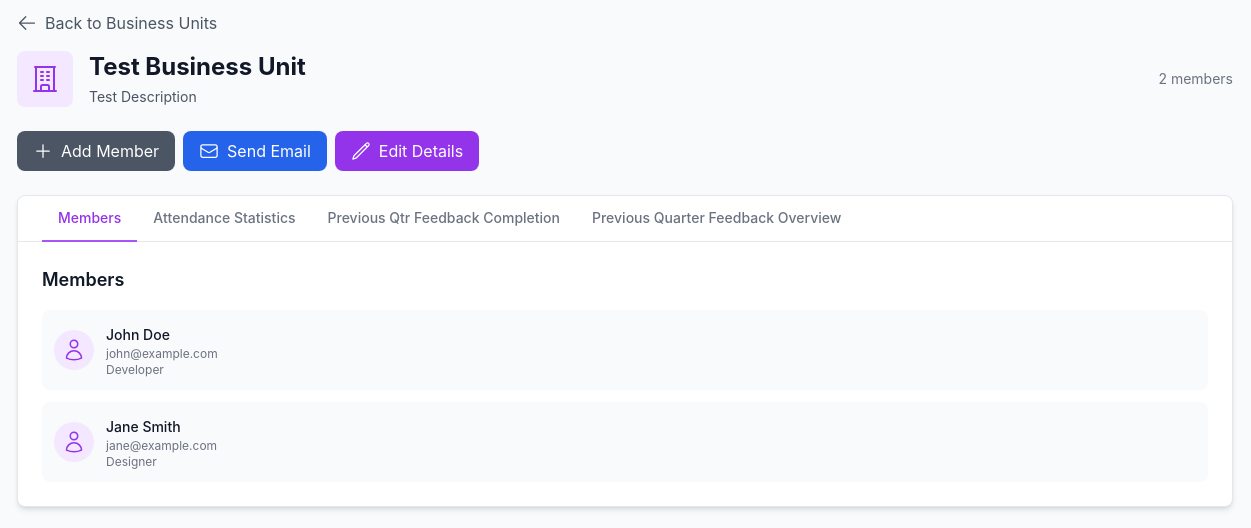
BusinessUnitDetail › should display feedback overview tab
Step 1. Click the button "Previous Quarter Feedback Overview" → click(717, 219), box [576,196,857,242]
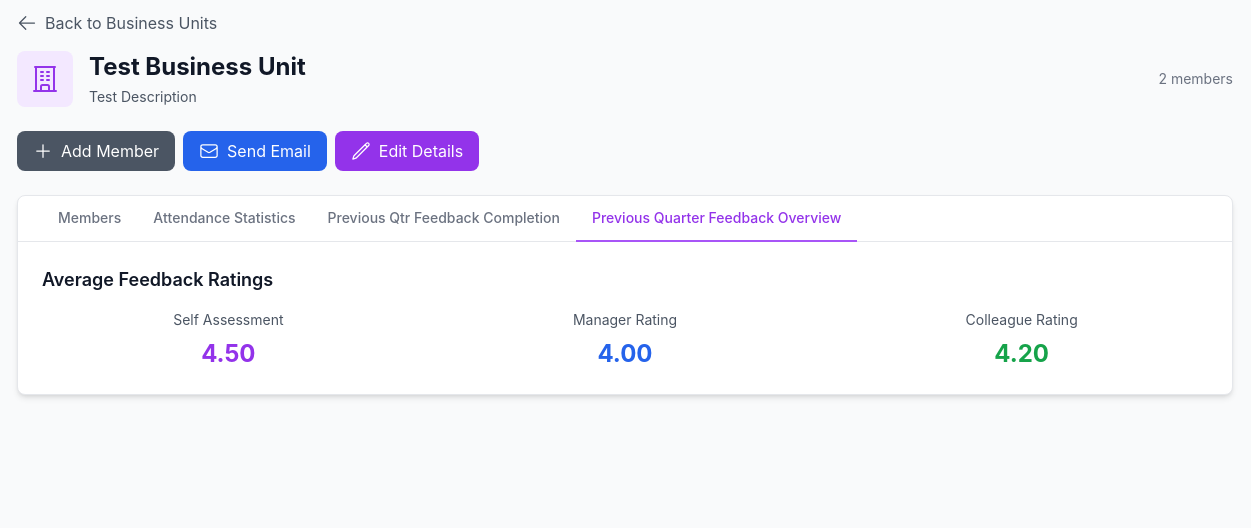
Expected: the heading "Average Feedback Ratings" is shown, [42,269,273,290]
